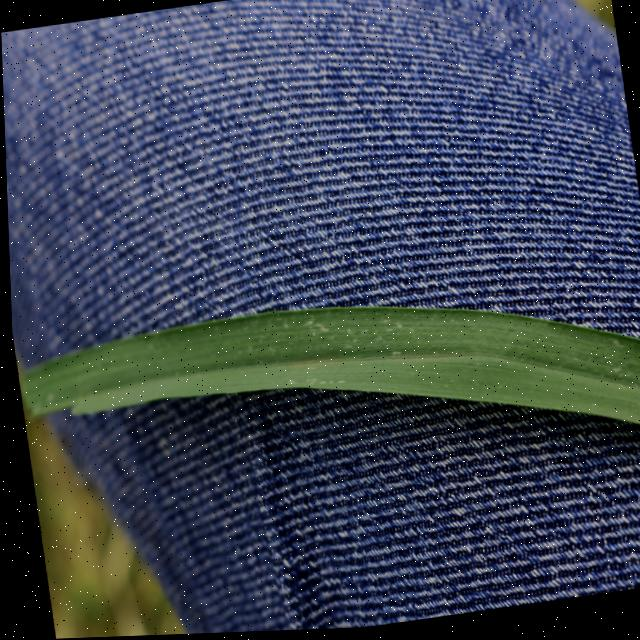yellow_rust: (8, 249, 640, 565)
